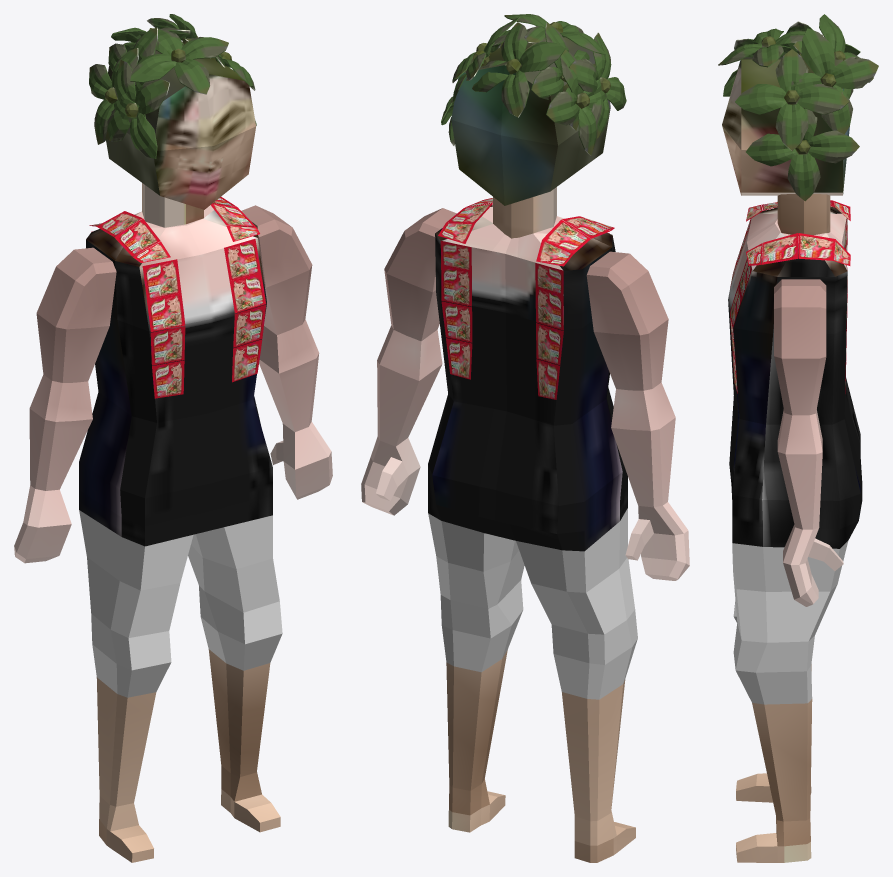
File: Mimi Peri.fbx
3 renders of one model, left to right at view 1: azimuth 30°, elevation 25°; view 2: azimuth 150°, elevation 25°; view 3: azimuth 270°, elevation 25°, orthographic. The views are drawn at different scales.
Visible parts, largest first — view 1: Leg, Ar, Cube, Plane, Flower.003, Flower.007, Plane.018, Flower.006, Cube.001, Flower.002, Flower.004, Flower.005; view 2: Leg, Ar, Cube, Plane.015, Flower.004, Plane.018, Flower.006, Flower.007, Cube.001, Flower.002, Flower.003, Flower.005; view 3: Leg, Ar, Cube, Flower, Flower.001, Flower.005, Plane.018, Cube.001, Flower.003, Flower.004, Plane, Flower.002 (+1 smaller).
Boxes of the visible parts, x1=… form: Leg: x1=79, y1=203, x2=282, y2=862; Ar: x1=14, y1=205, x2=332, y2=563; Cube: x1=106, y1=41, x2=256, y2=209; Plane: x1=142, y1=239, x2=266, y2=398; Flower.003: x1=130, y1=28, x2=228, y2=94; Flower.007: x1=105, y1=59, x2=169, y2=158; Plane.018: x1=89, y1=197, x2=259, y2=262; Flower.006: x1=89, y1=48, x2=145, y2=144; Cube.001: x1=142, y1=183, x2=203, y2=227; Flower.002: x1=108, y1=27, x2=157, y2=94; Flower.004: x1=111, y1=27, x2=190, y2=51; Flower.005: x1=147, y1=14, x2=225, y2=67; Leg: x1=428, y1=205, x2=637, y2=862; Ar: x1=361, y1=208, x2=689, y2=580; Cube: x1=451, y1=37, x2=610, y2=205; Plane.015: x1=440, y1=240, x2=563, y2=399; Flower.004: x1=472, y1=22, x2=565, y2=117; Plane.018: x1=438, y1=198, x2=614, y2=266; Flower.006: x1=546, y1=49, x2=606, y2=155; Flower.007: x1=569, y1=32, x2=626, y2=138; Cube.001: x1=493, y1=187, x2=556, y2=238; Flower.002: x1=531, y1=22, x2=589, y2=130; Flower.003: x1=504, y1=14, x2=605, y2=55; Flower.005: x1=451, y1=17, x2=520, y2=105; Leg: x1=728, y1=206, x2=862, y2=862; Ar: x1=774, y1=207, x2=843, y2=606; Cube: x1=722, y1=57, x2=849, y2=195; Flower: x1=735, y1=49, x2=848, y2=150; Flower.001: x1=746, y1=108, x2=859, y2=201; Flower.005: x1=791, y1=28, x2=878, y2=133; Plane.018: x1=746, y1=200, x2=850, y2=265; Cube.001: x1=777, y1=194, x2=830, y2=235; Flower.003: x1=718, y1=28, x2=823, y2=67; Flower.004: x1=793, y1=14, x2=873, y2=98; Plane: x1=730, y1=219, x2=751, y2=393; Flower.002: x1=751, y1=21, x2=860, y2=57.
Size of the model in its own units: 83.59 by 203 by 37.
6 materials, 6 textured.
